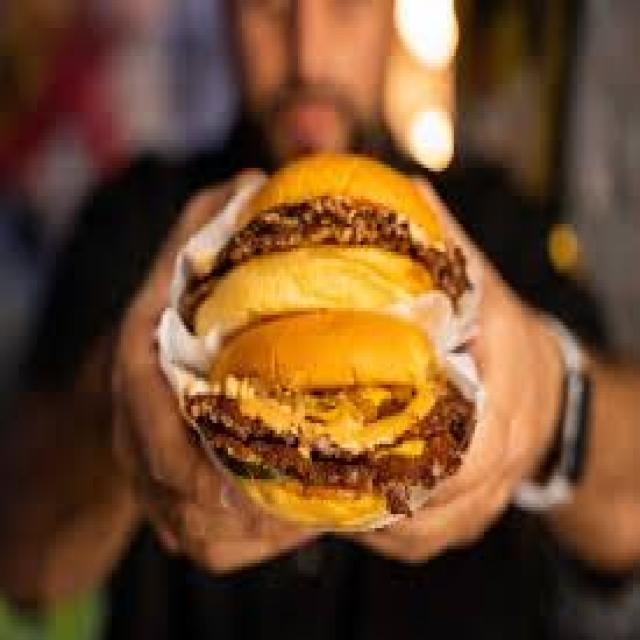Burger: (187, 189, 470, 507)
